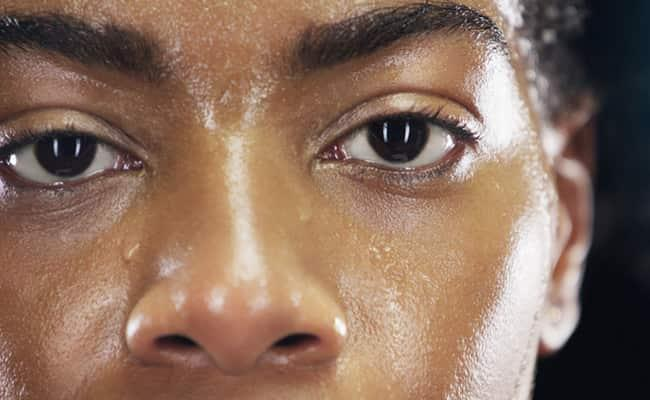Oily-Skin: (311, 183, 537, 374), (0, 231, 118, 396), (160, 6, 302, 142)
